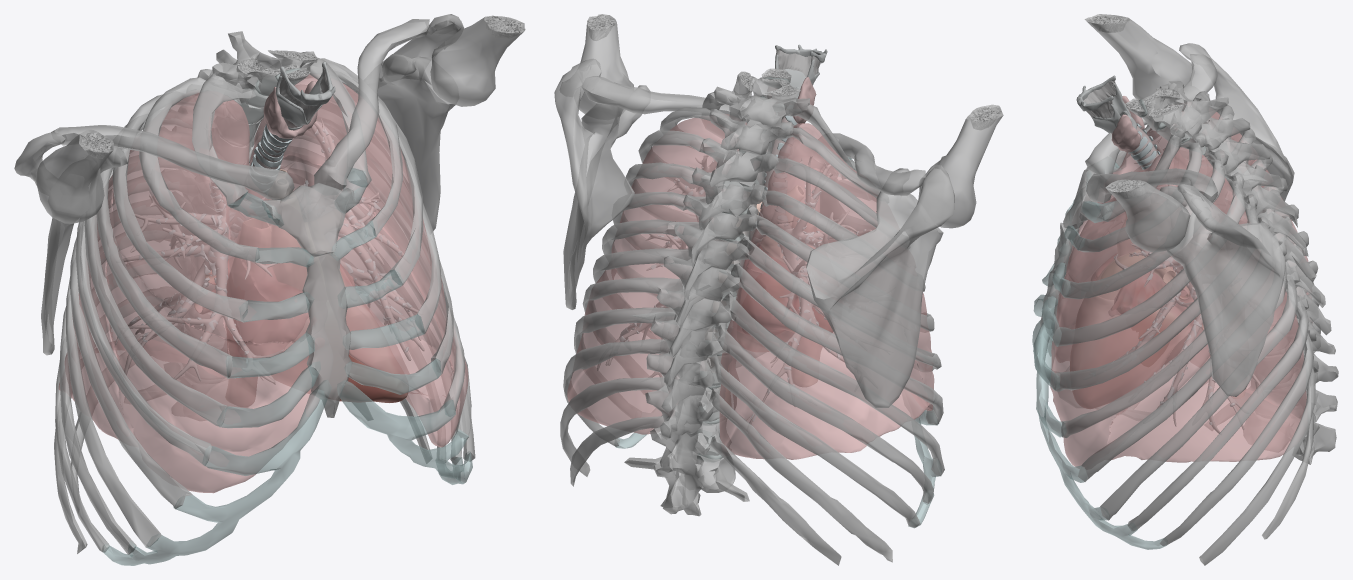
File: human_anatomy_heart_in_thorax.glb
3 views of the same model, side by side, from view 1: azimuth 30°, elevation 25°; view 2: azimuth 150°, elevation 25°; view 3: azimuth 270°, elevation 25° (orthographic). The views are drawn at different scales.
Parts seen in each view (by area): view 1: Thorax, Lungs, Costal_cartilages, Heart, Trachea, Tracheal_cartilages, Htc, Vertebral_discs, Thyroid_gland; view 2: Thorax, Lungs, Trachea, Heart, Costal_cartilages, Tracheal_cartilages, Vertebral_discs, Htc, Ligament; view 3: Thorax, Lungs, Heart, Costal_cartilages, Trachea, Tracheal_cartilages, Htc, Thyroid_gland, Ligament, Vertebral_discs.
Part boxes in pixels (x1,y1,x2,y2): Thorax: (14,14,525,554); Lungs: (58,74,468,493); Costal_cartilages: (102,168,472,565); Heart: (194,169,408,406); Trachea: (115,117,424,384); Tracheal_cartilages: (117,124,414,361); Htc: (275,62,335,130); Vertebral_discs: (185,68,300,383); Thyroid_gland: (263,81,317,138); Thorax: (554,14,1003,565); Lungs: (567,114,934,459); Trachea: (597,117,871,424); Heart: (725,185,833,406); Costal_cartilages: (614,157,941,528); Tracheal_cartilages: (619,115,865,420); Vertebral_discs: (697,77,789,462); Htc: (775,44,827,98); Ligament: (776,50,820,77); Thorax: (1040,14,1338,565); Lungs: (1050,111,1313,468); Heart: (1070,212,1244,408); Costal_cartilages: (1032,162,1167,549); Trachea: (1111,125,1260,433); Tracheal_cartilages: (1113,123,1235,424); Htc: (1076,75,1136,133); Thyroid_gland: (1111,96,1144,152); Ligament: (1083,80,1116,119); Vertebral_discs: (1138,99,1290,418).
Size of the model in its own units: 930 by 956 by 638.
